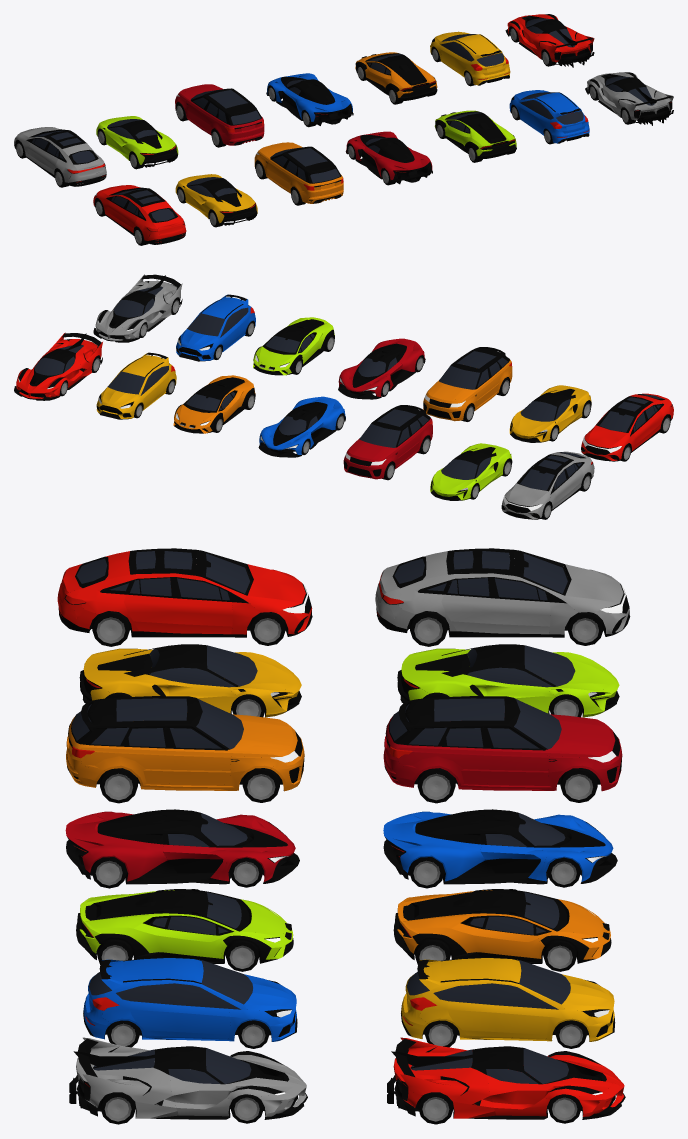
File: ultimate_low-poly_car_pack.glb
3 renders of one model, top to bottom at view 1: azimuth 30°, elevation 25°; view 2: azimuth 150°, elevation 25°; view 3: azimuth 270°, elevation 25°, orthographic. The views are drawn at different scales.
Visible parts, largest first — view 1: Paint.009, Paint.004, Paint.010, Paint.003, Paint.006, Paint.007, Body.012, Body.002, Body.001, Body.013, Paint.008, Paint.005 (+28 smaller); view 2: Paint.004, Paint.009, Paint.010, Paint.003, Paint.008, Paint.005, Paint.007, Paint.006, Paint.011, Paint.002, Paint, Paint.013 (+36 smaller); view 3: Paint.010, Paint.003, Paint.004, Paint.009, Paint.006, Paint.007, Paint.008, Paint.005, Body.001, Body.013, Paint, Paint.013 (+46 smaller).
Boxes of the visible parts, box(x1,y1,x2,y2) form: Paint.009: box(509, 90, 589, 143); Paint.004: box(430, 31, 510, 85); Paint.010: box(93, 185, 186, 242); Paint.003: box(14, 127, 106, 184); Paint.006: box(175, 84, 264, 145); Paint.007: box(254, 142, 343, 203); Body.012: box(435, 111, 516, 159); Body.002: box(355, 53, 437, 101); Body.001: box(266, 76, 353, 125); Body.013: box(345, 135, 432, 184); Paint.008: box(587, 72, 673, 120); Paint.005: box(507, 14, 594, 62); Paint.004: box(96, 353, 176, 418); Paint.009: box(176, 294, 255, 360); Paint.010: box(581, 393, 673, 460); Paint.003: box(502, 451, 594, 519); Paint.008: box(95, 274, 182, 340); Paint.005: box(16, 332, 102, 398); Paint.007: box(423, 360, 512, 421); Paint.006: box(343, 418, 432, 479); Paint.011: box(509, 385, 591, 442); Paint.002: box(430, 443, 511, 500); Paint: box(259, 396, 345, 454); Paint.013: box(338, 338, 424, 396); Paint.010: box(57, 551, 312, 634); Paint.003: box(375, 551, 629, 634); Paint.004: box(401, 958, 614, 1041); Paint.009: box(83, 958, 296, 1041); Paint.006: box(383, 714, 622, 791); Paint.007: box(66, 714, 304, 791); Paint.008: box(76, 1037, 306, 1118); Paint.005: box(393, 1037, 624, 1118); Body.001: box(383, 809, 617, 884); Body.013: box(66, 809, 299, 884); Paint: box(383, 811, 613, 881); Paint.013: box(65, 811, 295, 881).
Bounding box in the file's own units: 25.08 × 1.79 × 11.7.
